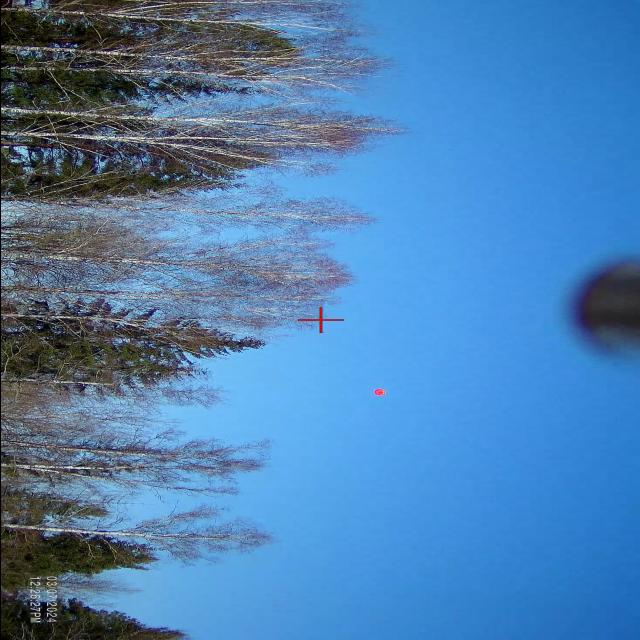entire: (366, 384, 394, 399)
